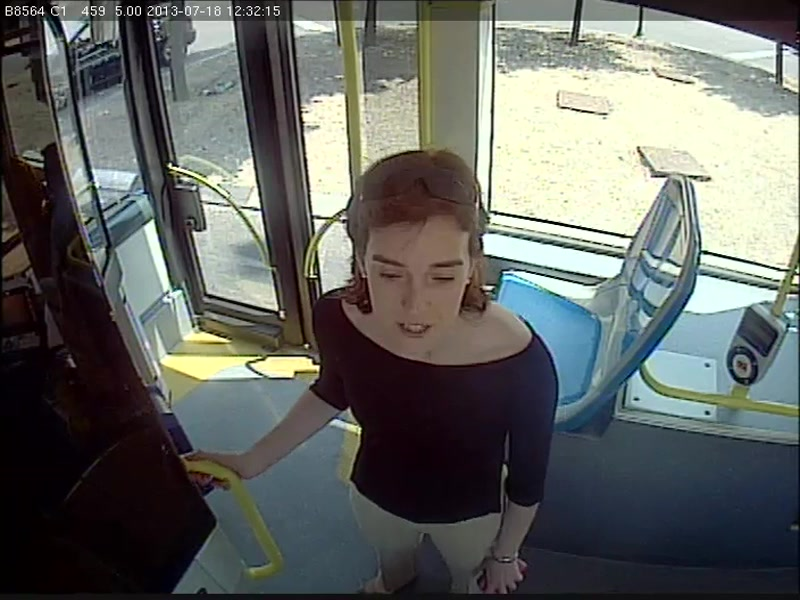Head: (345, 146, 490, 347)
